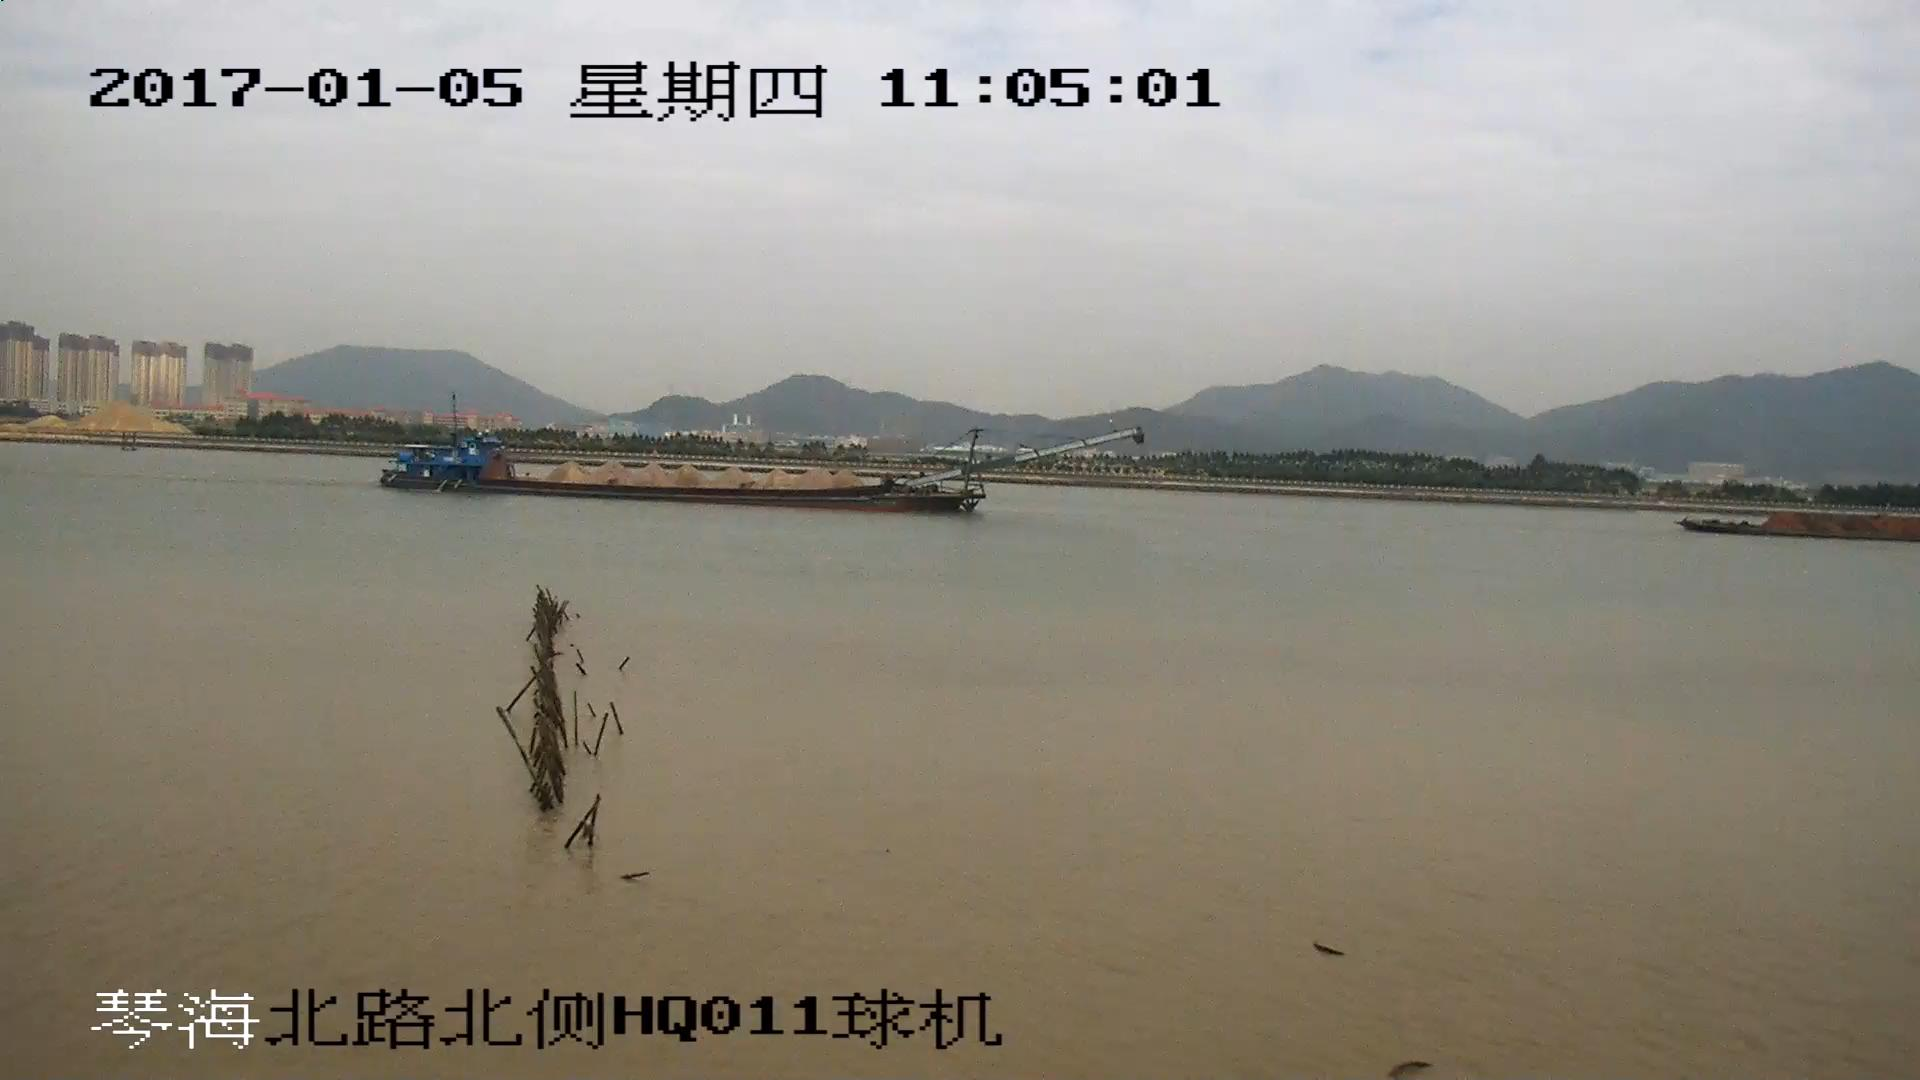ore carrier: (380, 430, 1136, 514), (1682, 504, 1920, 544)
